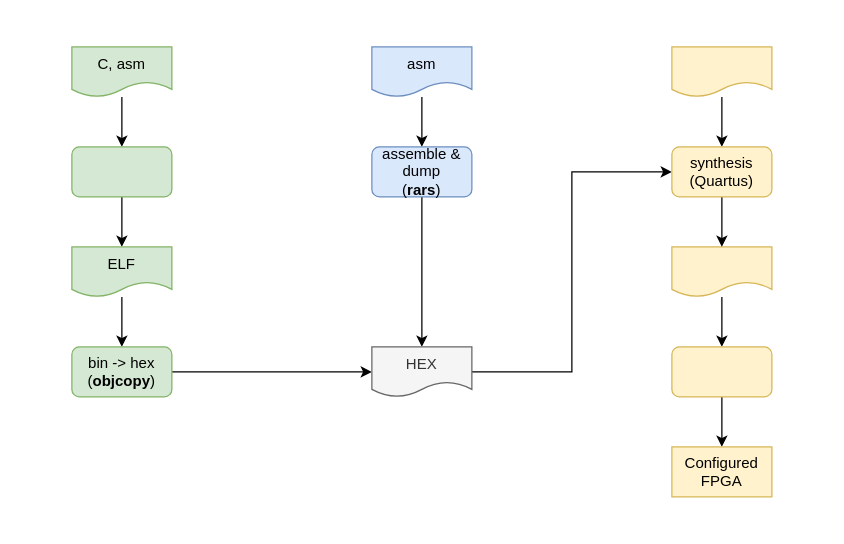
This 844x544 diagram has some shape labels left out. The shapes that lost their labels are listed below. From the top down, each one's centre as x and y in pixels, then its label:
At [721,71]: "RTL".
At [121,171]: "build ( gcc )".
At [721,271]: "bitstream (.sof)".
At [721,371]: "Programmer (Quartus)".
